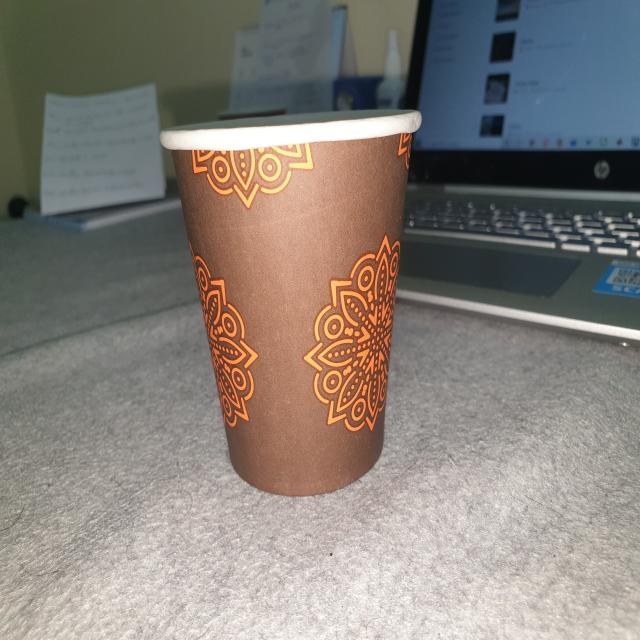cups: (152, 90, 430, 503)
